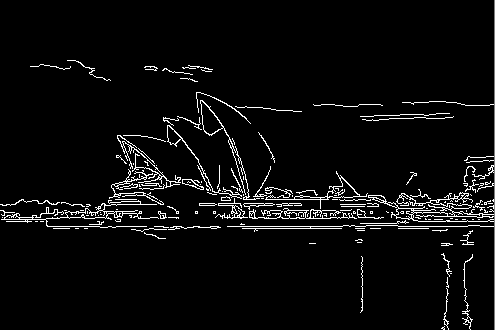opera house: (89, 73, 383, 213)
